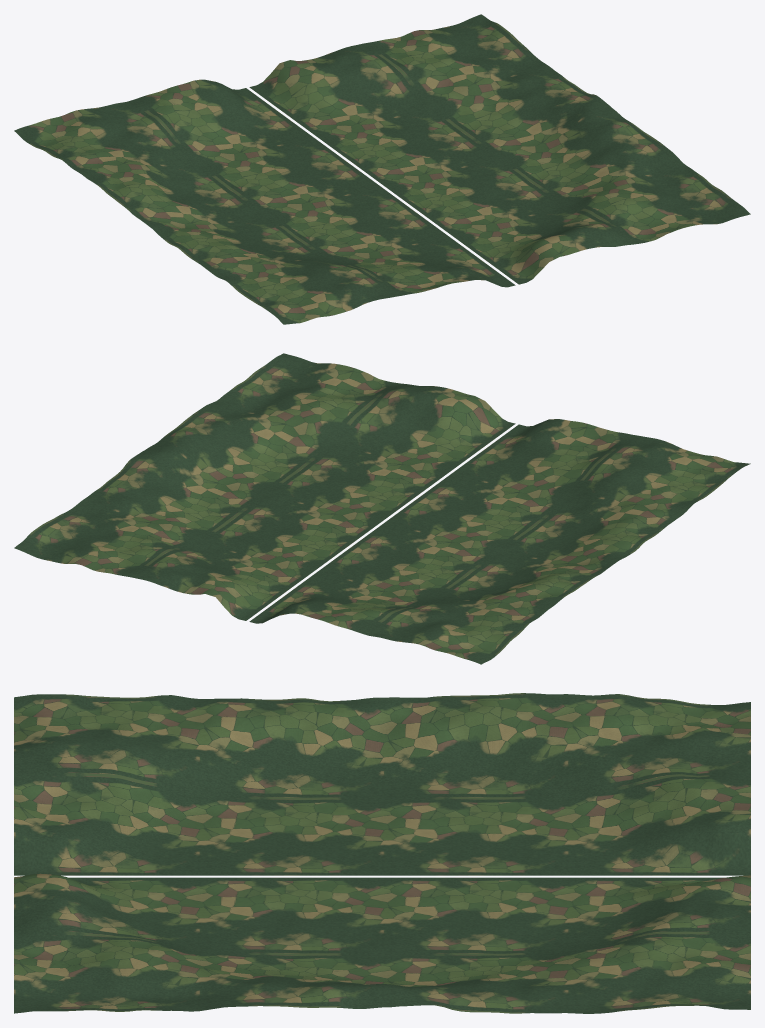
The model's file is EarthGround.obj.
3 renders of one model, top to bottom at view 1: azimuth 30°, elevation 25°; view 2: azimuth 150°, elevation 25°; view 3: azimuth 270°, elevation 25°, orthographic. The views are drawn at different scales.
Visible parts, largest first — view 1: EarthGround; view 2: EarthGround; view 3: EarthGround.
Boxes of the visible parts, bbox=[...] form: EarthGround: bbox=[14, 14, 750, 324]; EarthGround: bbox=[14, 353, 750, 664]; EarthGround: bbox=[14, 693, 750, 1013].
Size of the model in its own units: 6144 by 300 by 6144.
1 material, 1 textured.
